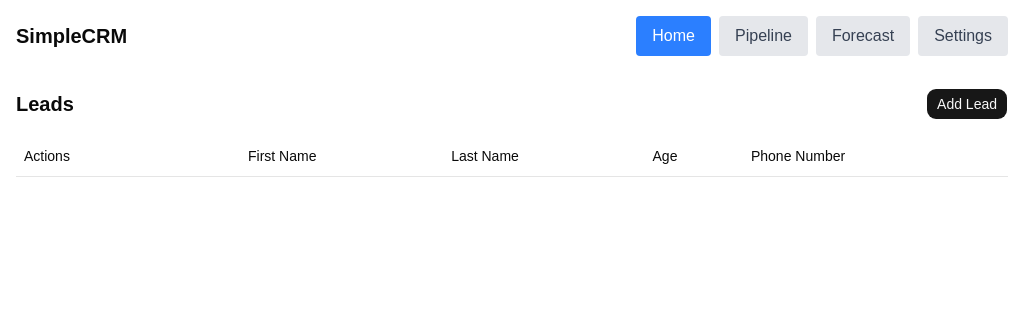
Scenario: App › shows the pipeline page when Pipeline is clicked
Click the button "Pipeline" at coordinates (763, 36), box [719,16,808,56]
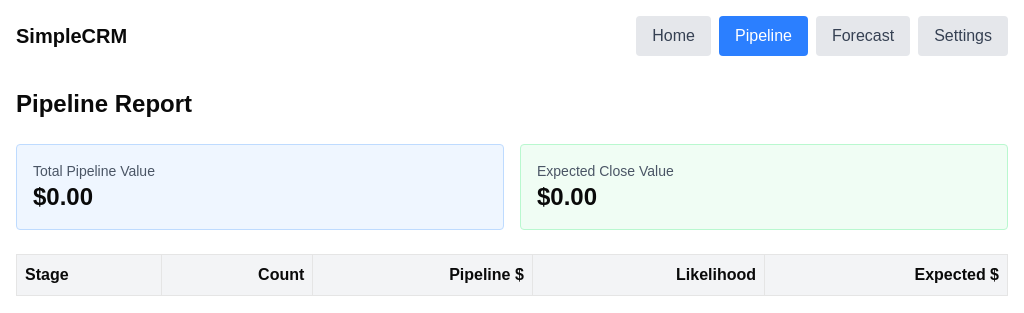
Expected: the heading "Pipeline Report" is shown, [16,90,192,117]
